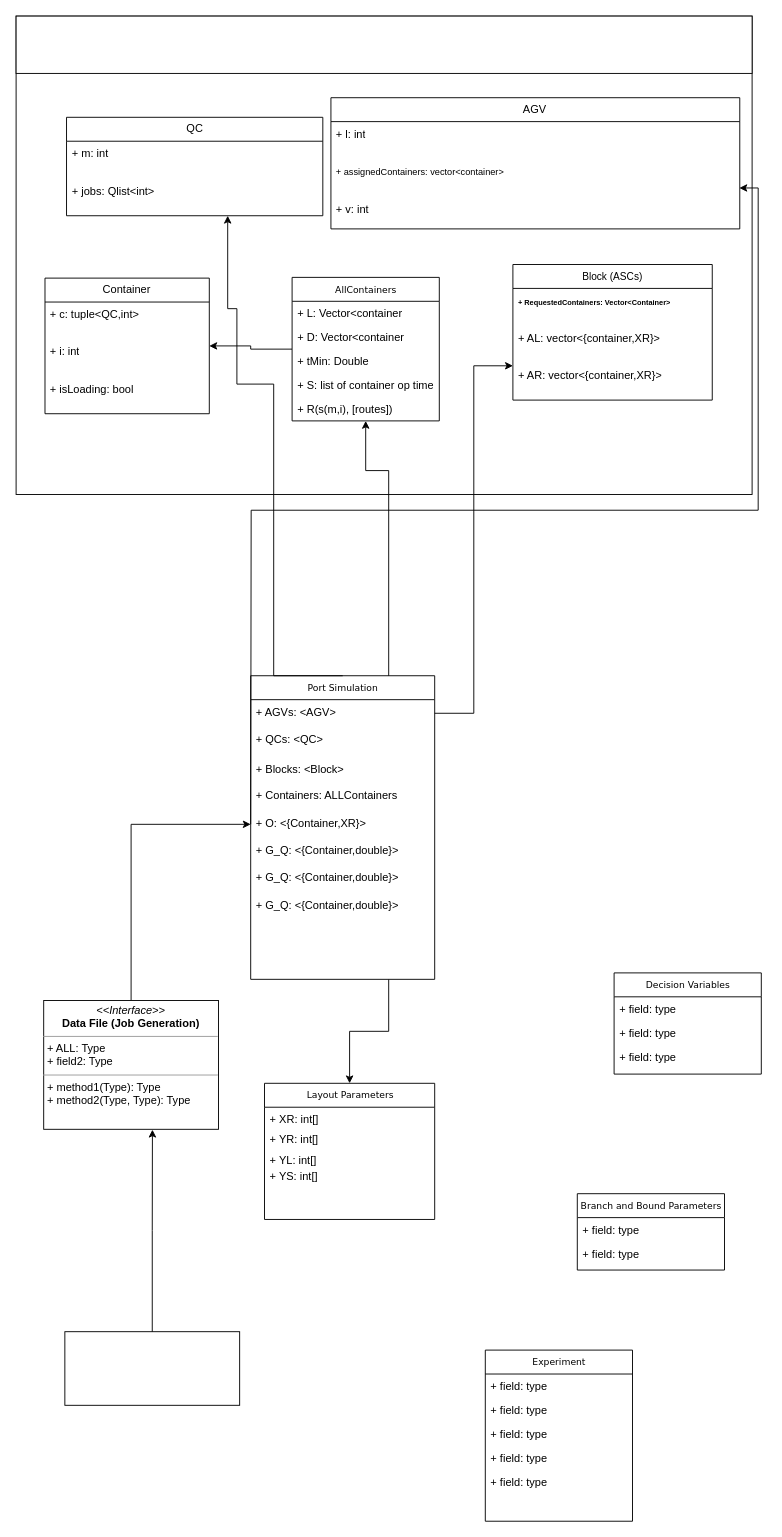
Some shapes in this 782 by 1537 pixel diagram are drawn without their labels. The centre of each missing label's shape, as x and y in pixels:
"<<Interface>> User Input + Container num: int + AGV numb: int" belongs at (152,1368).
"Equipments" belongs at (383,44).
